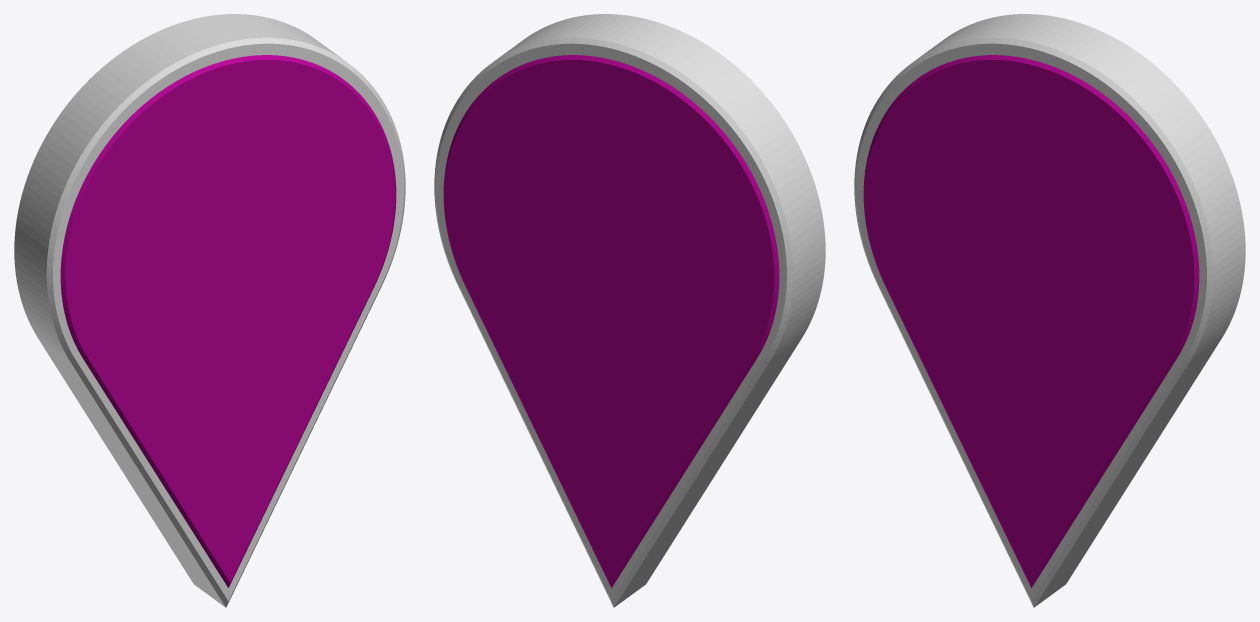
File: plain-magenta.glb
3 renders of one model, left to right at view 1: azimuth 30°, elevation 25°; view 2: azimuth 150°, elevation 25°; view 3: azimuth 330°, elevation 25°, orthographic.
Parts seen in each view (by area): view 1: marker-body, rim; view 2: marker-body, rim; view 3: marker-body, rim.
Boxes of the visible parts, <box> form: marker-body: <box>60,55,396,587</box>; rim: <box>14,14,405,607</box>; marker-body: <box>443,55,779,587</box>; rim: <box>434,14,825,607</box>; marker-body: <box>863,55,1199,587</box>; rim: <box>854,14,1245,607</box>.
Size of the model in its own units: 2.24 by 3.37 by 0.44.
